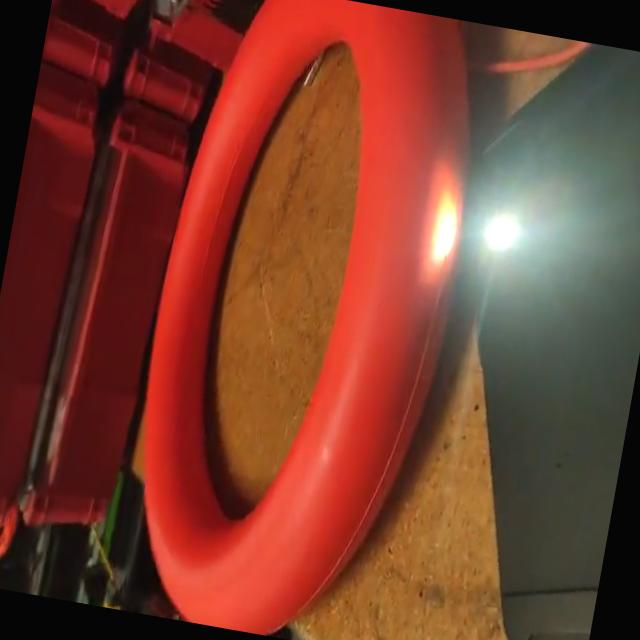note: (81, 0, 514, 640)
